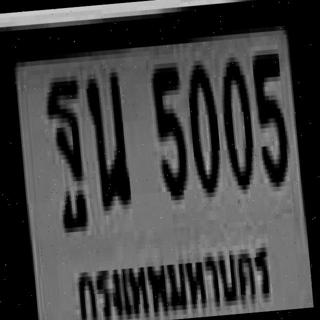A16: (42, 76, 87, 215)
A25: (83, 67, 130, 207)
N00: (184, 59, 222, 194), (217, 52, 254, 186)
N05: (250, 49, 289, 183), (149, 62, 187, 197)
P04: (72, 233, 272, 320)
